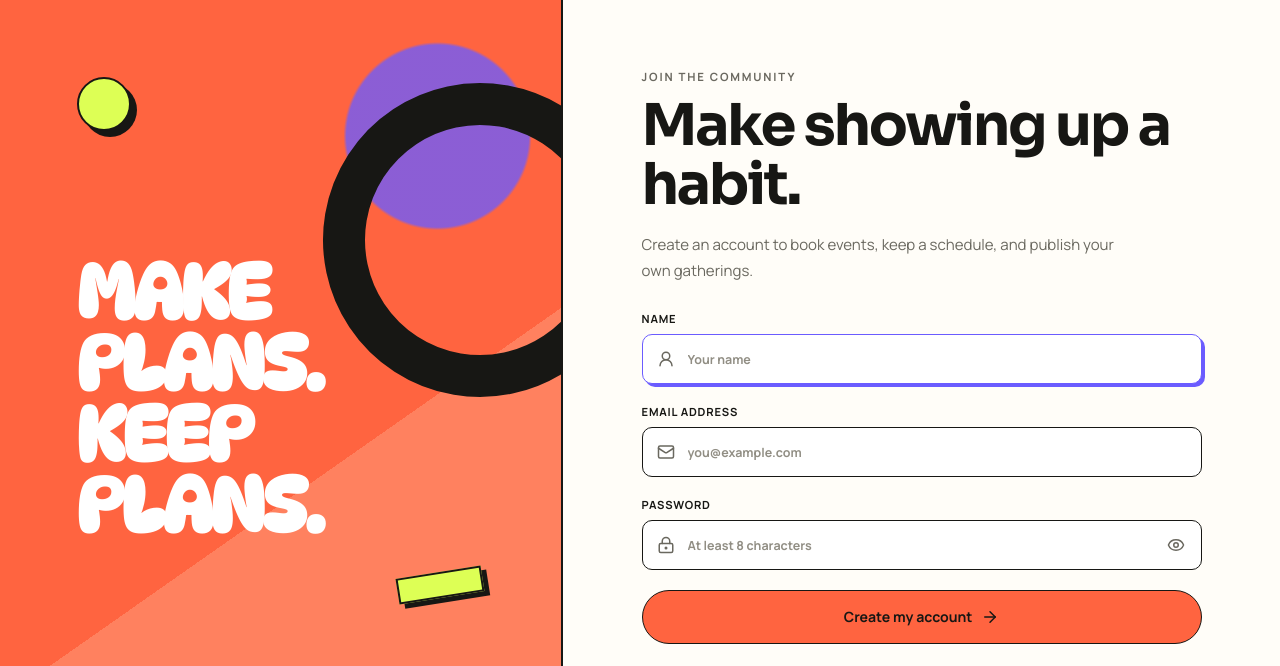
AuthForm › stops an invalid registration locally and shows field-level guidance
Type "A" into the field labelled "Name" at (922, 359), box [642,334,1202,384]
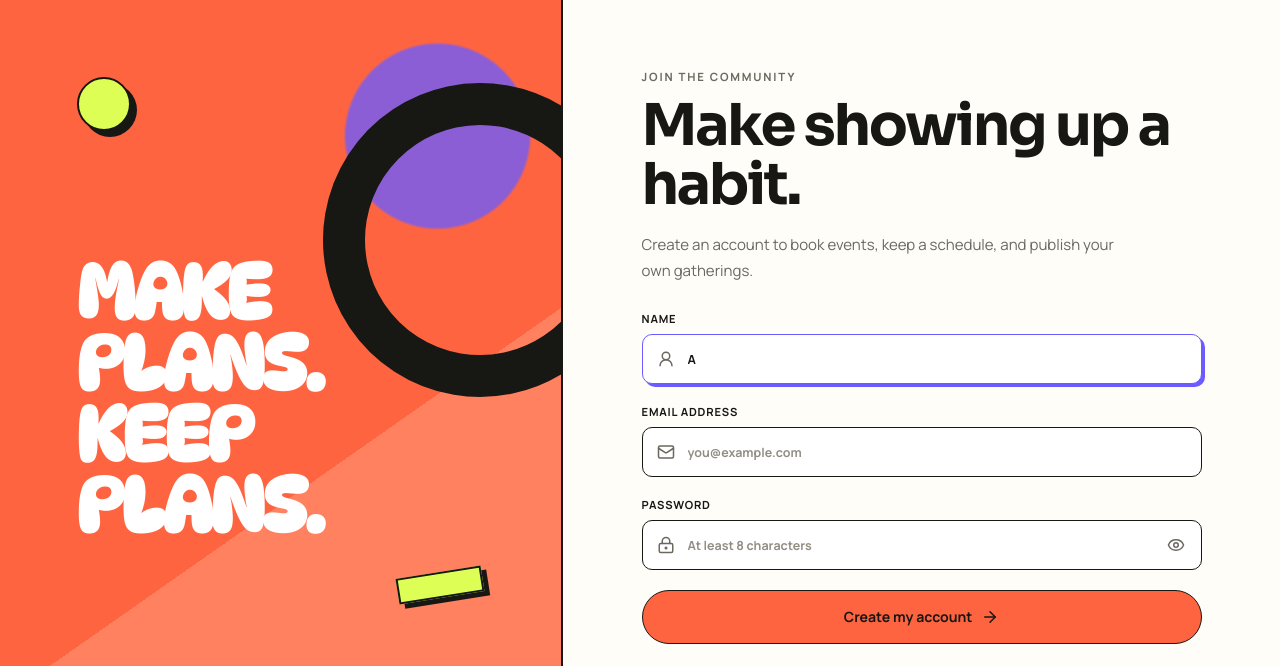
Type "a@example.com" into the field labelled "Email address" at (922, 452), box [642,427,1202,477]
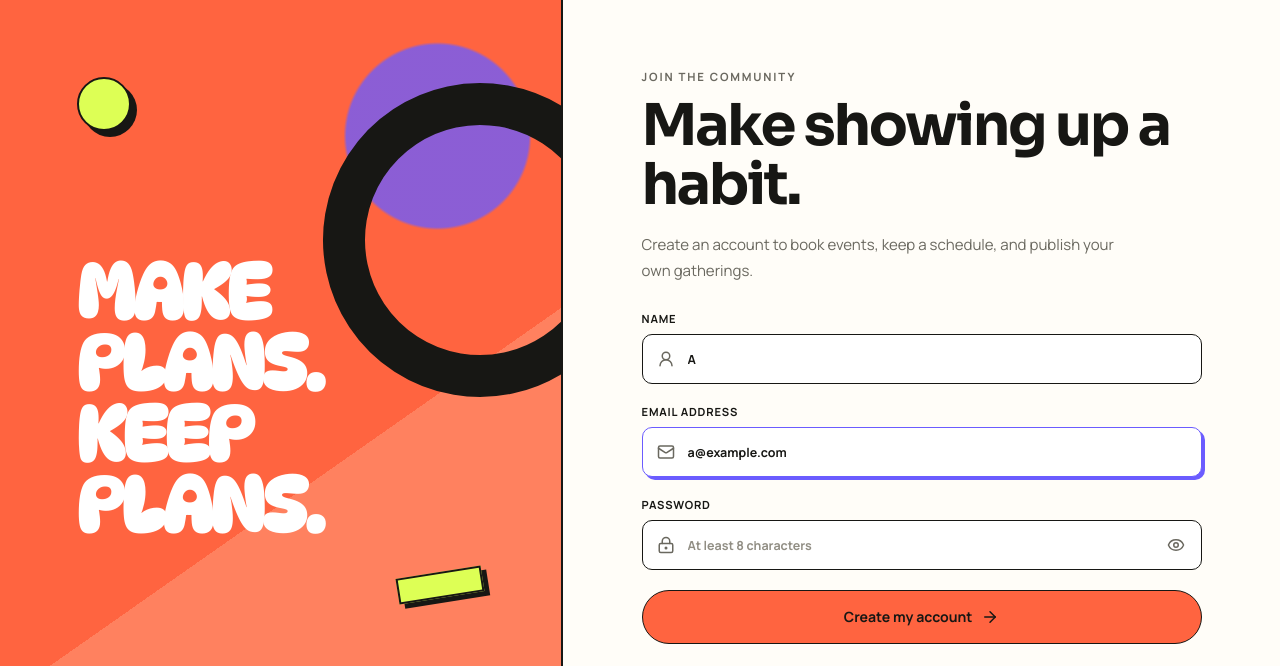
Type "short" into the password field labelled "Password" at (922, 545), box [642,520,1202,570]
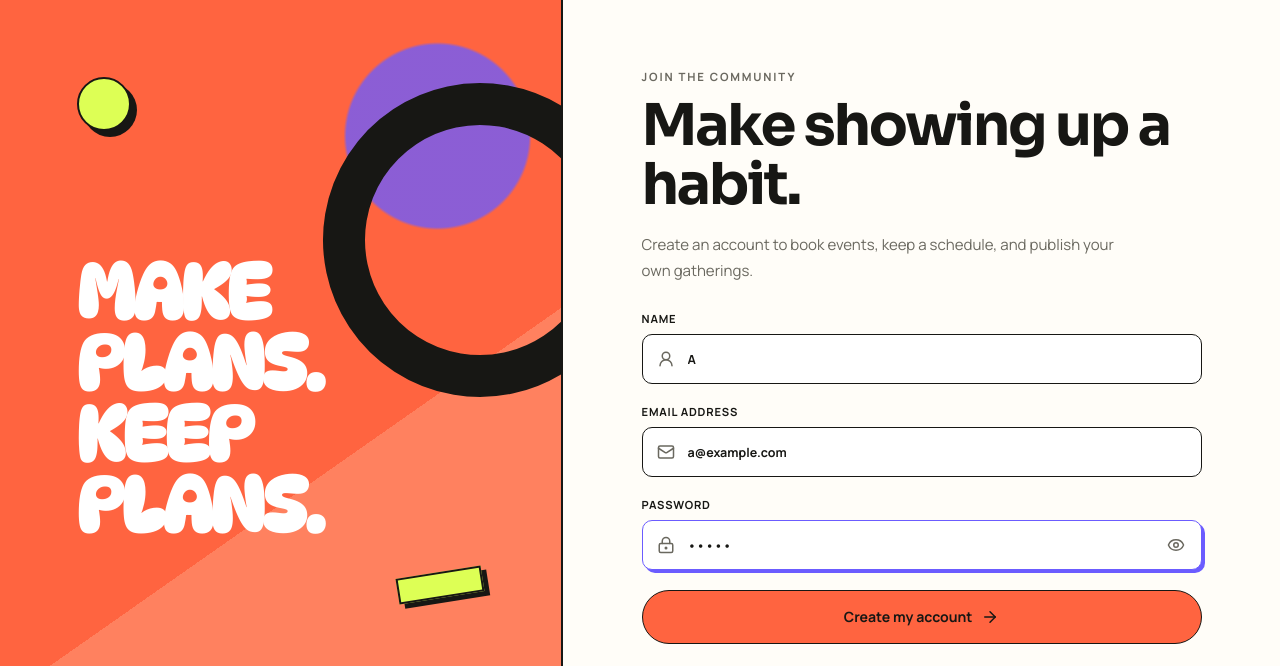
Click the button "Create my account" at (922, 617), box [642,590,1202,644]
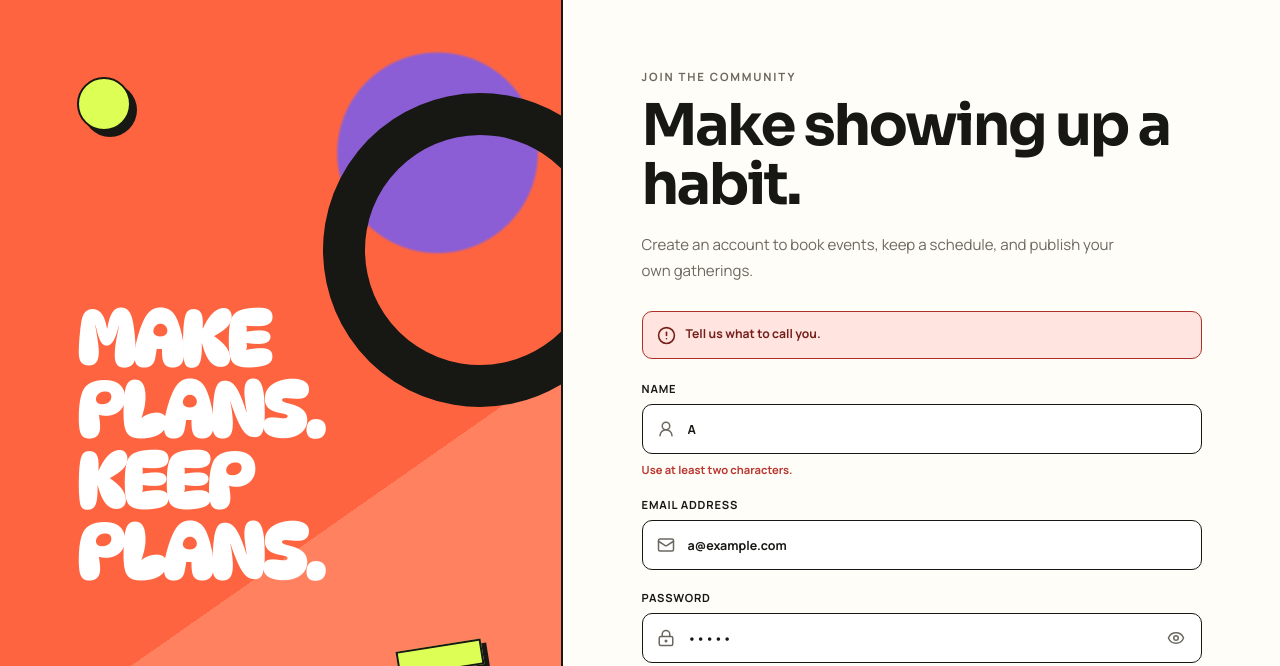
Now the text "Tell us what to call you." is shown, box [686,325,821,344]
Now the text "Use at least two characters." is shown, box [642,462,792,477]
